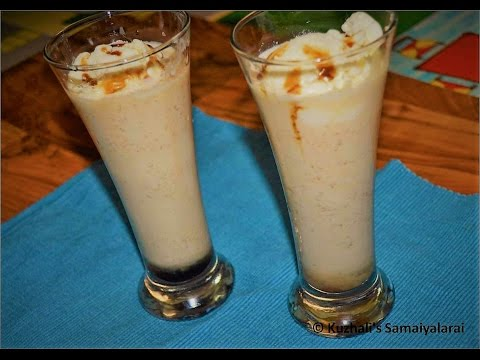jigirthanda: (239, 32, 421, 302), (58, 31, 218, 315)
